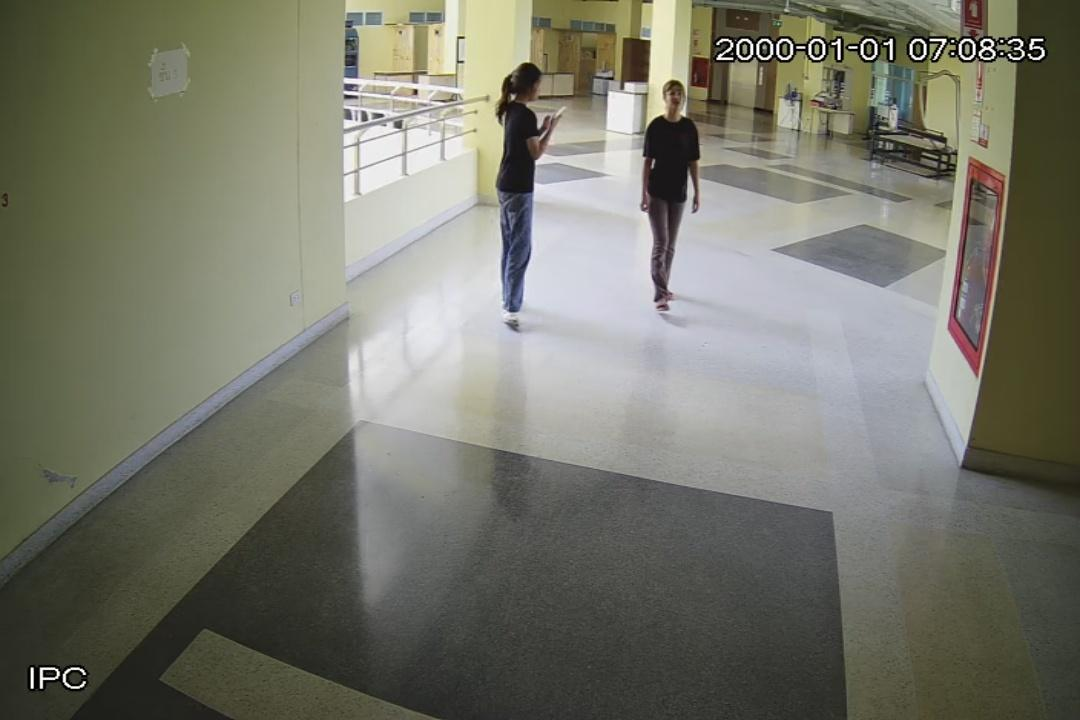normal: (492, 56, 568, 332), (634, 72, 708, 322)
